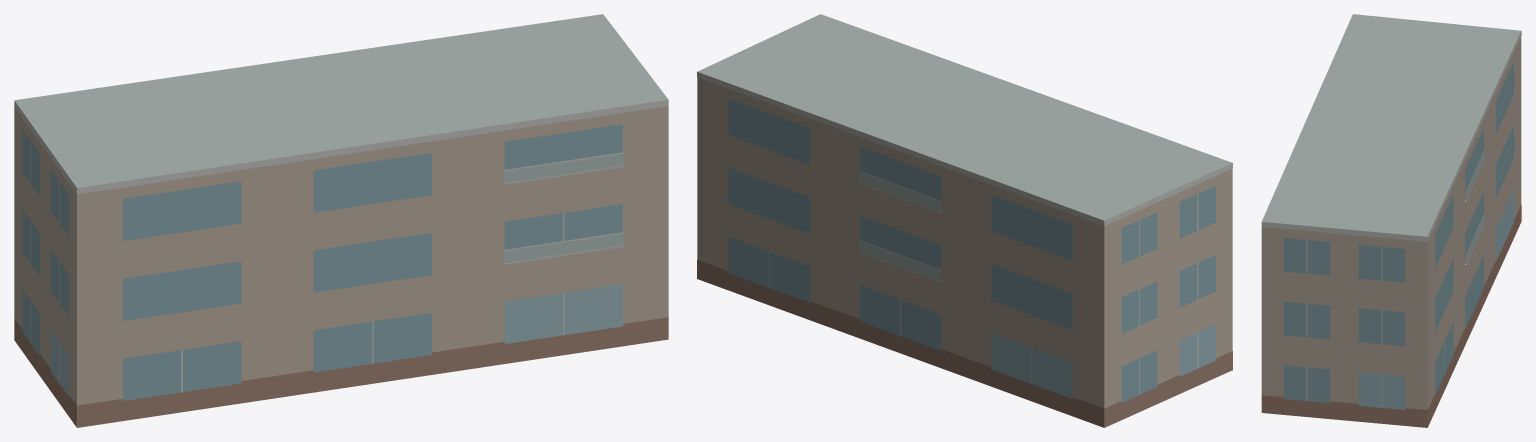
The model's file is survey-upis-32673101.glb.
3 views of the same model, side by side, from view 1: azimuth 30°, elevation 25°; view 2: azimuth 150°, elevation 25°; view 3: azimuth 270°, elevation 25° (orthographic). The views are drawn at different scales.
Visible parts, largest first — view 1: survey-upis-32673101.tmp; view 2: survey-upis-32673101.tmp; view 3: survey-upis-32673101.tmp.
Part boxes in pixels (x1,y1,x2,y2): survey-upis-32673101.tmp: (14,14,668,427); survey-upis-32673101.tmp: (697,14,1232,427); survey-upis-32673101.tmp: (1261,14,1521,427).
Bounding box in the file's own units: 22.89 × 9.15 × 11.29.
